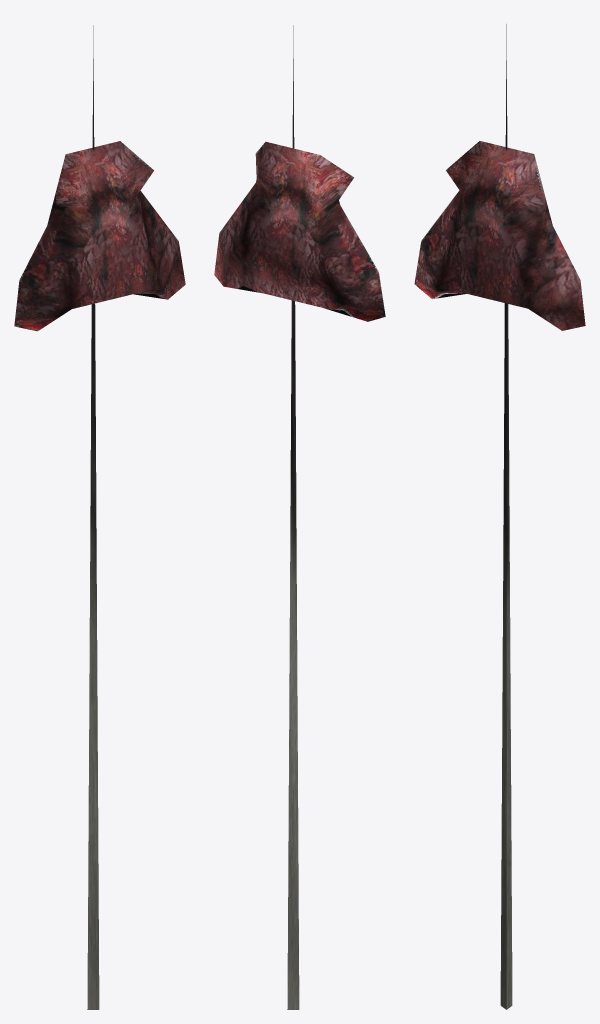
Rendered from eqp_camping_spit_l2.fbx.
3 renders of one model, left to right at view 1: azimuth 30°, elevation 25°; view 2: azimuth 150°, elevation 25°; view 3: azimuth 330°, elevation 25°, orthographic.
Visible parts, largest first — view 1: mesh_node; view 2: mesh_node; view 3: mesh_node.
Part boxes in pixels (left/top/right/bottom): mesh_node: left=14, top=25, right=185, bottom=1009; mesh_node: left=214, top=25, right=385, bottom=1009; mesh_node: left=414, top=24, right=585, bottom=1009.
Bounding box in the file's own units: 0.136 × 0.7538 × 0.0456.
1 material, 1 textured.
